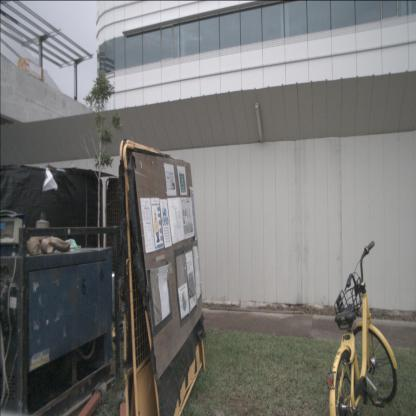vehicle-bicycle: (326, 240, 398, 415)
